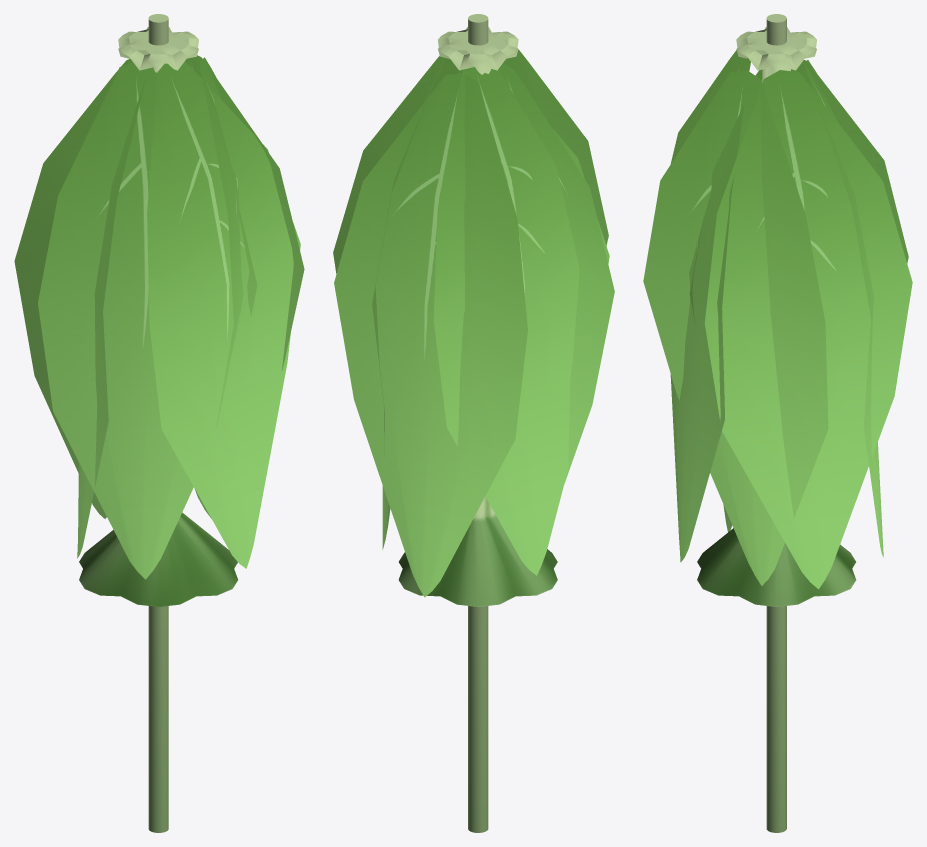
File: nomal_umbrella_model2.fbx
3 views of the same model, side by side, from view 1: azimuth 30°, elevation 25°; view 2: azimuth 150°, elevation 25°; view 3: azimuth 270°, elevation 25° (orthographic).
Parts seen in each view (by area): view 1: nomal_umb; view 2: nomal_umb; view 3: nomal_umb.
Boxes of the visible parts, x1,y1,x2,y2 form: nomal_umb: [14, 14, 304, 832]; nomal_umb: [333, 14, 614, 832]; nomal_umb: [643, 14, 912, 832].
Bounding box in the file's own units: 2.08 × 6.47 × 1.95.
